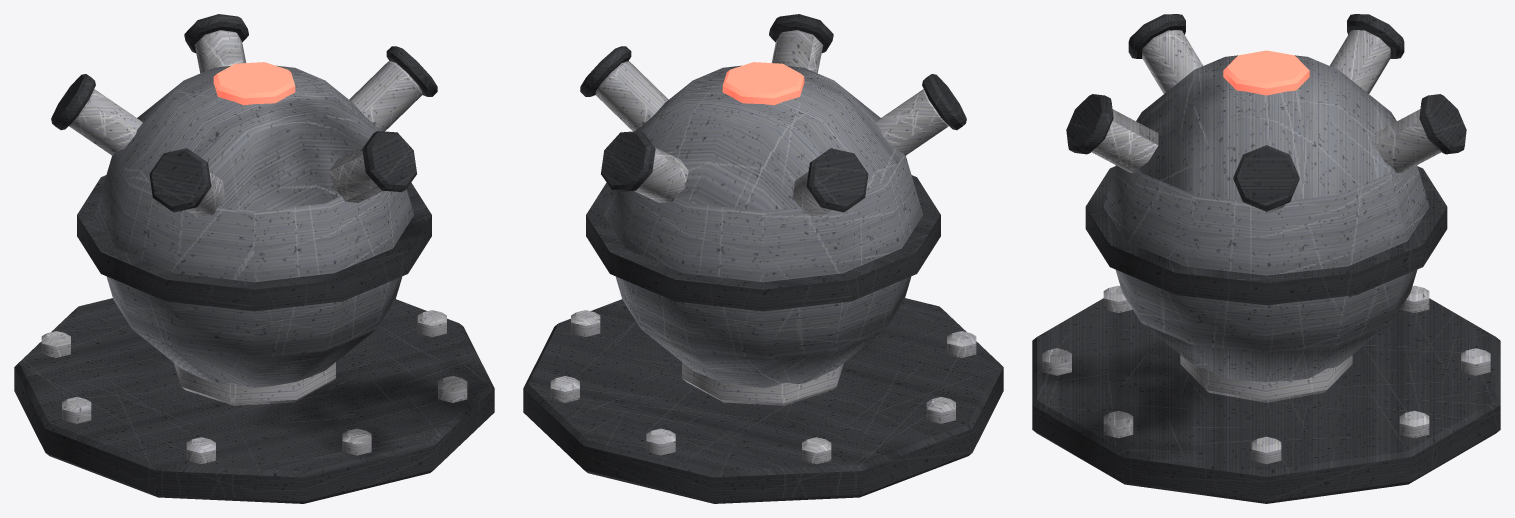
File: R4D_ExplosiveTrap.glb
The picture shows the model from 3 angles, left to right: view 1: azimuth 30°, elevation 25°; view 2: azimuth 150°, elevation 25°; view 3: azimuth 270°, elevation 25°; orthographic projection.
Parts seen in each view (by area): view 1: R4D_ExplosiveTrap_Body, R4D_ExplosiveTrap_Lamp; view 2: R4D_ExplosiveTrap_Body, R4D_ExplosiveTrap_Lamp; view 3: R4D_ExplosiveTrap_Body, R4D_ExplosiveTrap_Lamp.
Part boxes in pixels (box(x1,y1,x2,y2)): R4D_ExplosiveTrap_Body: box(14, 14, 494, 503); R4D_ExplosiveTrap_Lamp: box(213, 62, 295, 105); R4D_ExplosiveTrap_Body: box(523, 14, 1003, 503); R4D_ExplosiveTrap_Lamp: box(722, 62, 804, 105); R4D_ExplosiveTrap_Body: box(1032, 14, 1500, 503); R4D_ExplosiveTrap_Lamp: box(1223, 50, 1309, 95).
Size of the model in its own units: 0.4 by 0.3 by 0.3804.
Materials: 4 (3 with a texture image).
